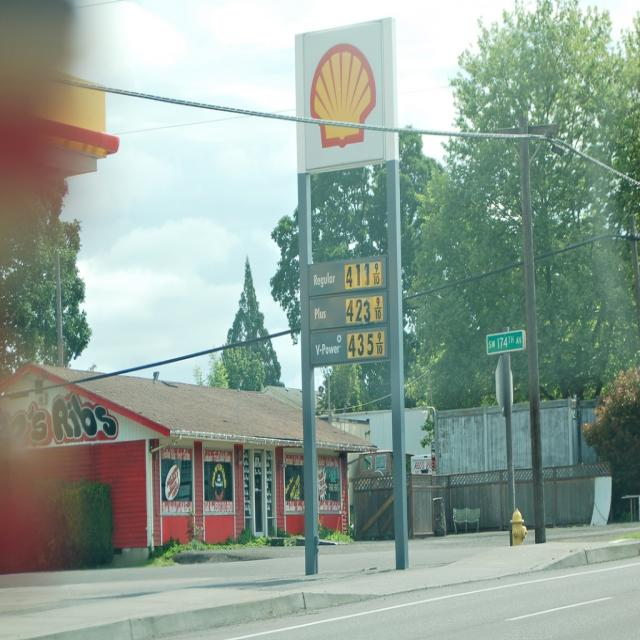shell: (311, 43, 377, 149)
